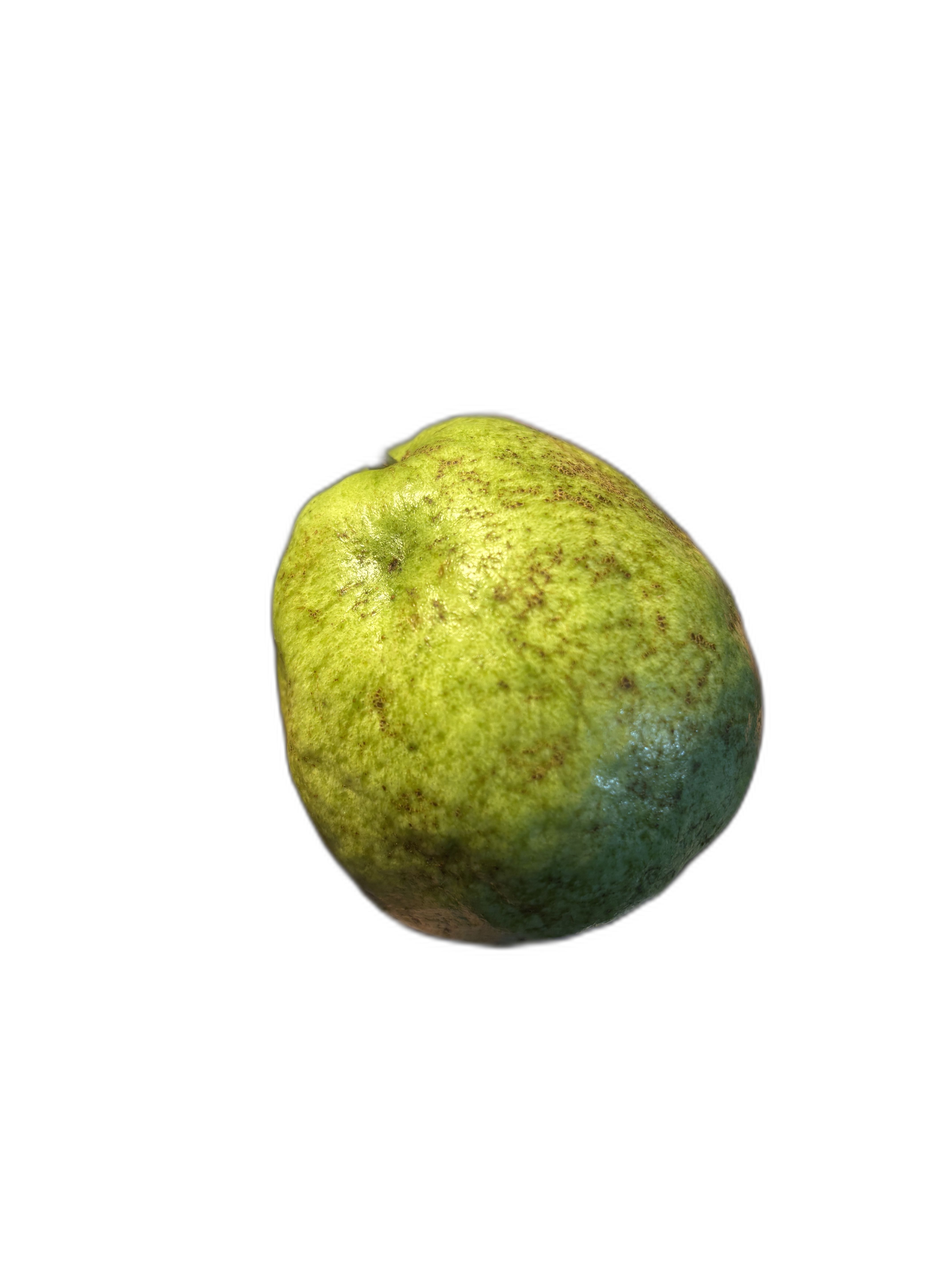guava: (83, 173, 933, 1174)
